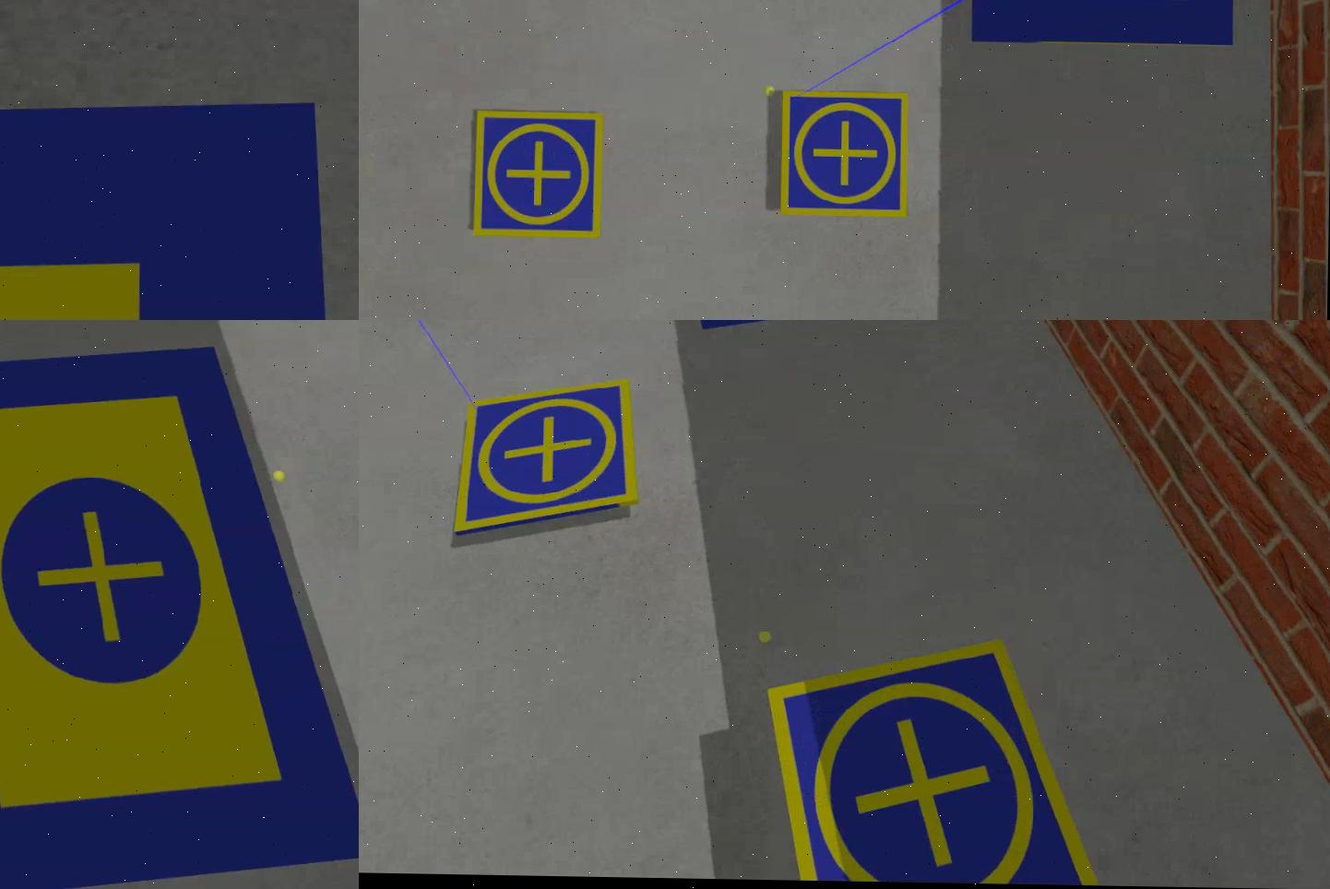large_base: (1, 338, 360, 889), (1, 89, 360, 321)
small_base: (766, 637, 1110, 886), (452, 382, 647, 542), (472, 111, 605, 244), (778, 89, 912, 220)
